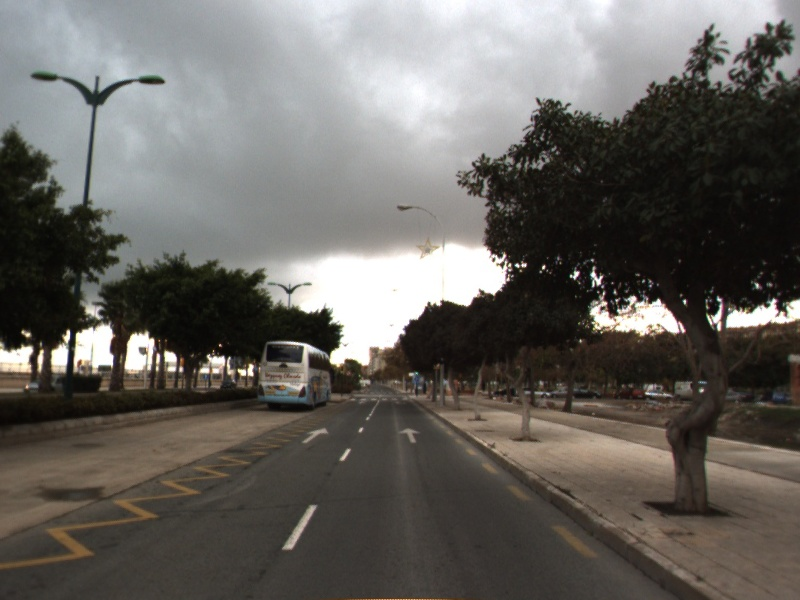STRAIGHT: (299, 425, 331, 446), (396, 426, 424, 445)
